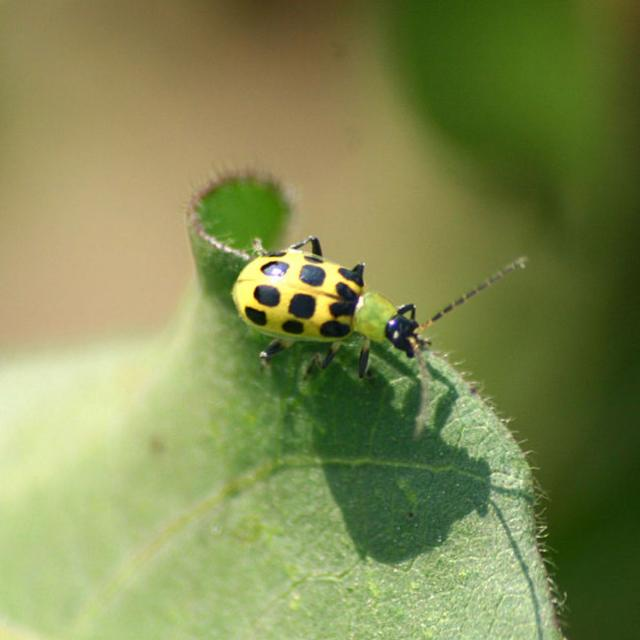cucumber_beetle: (198, 218, 532, 399)
